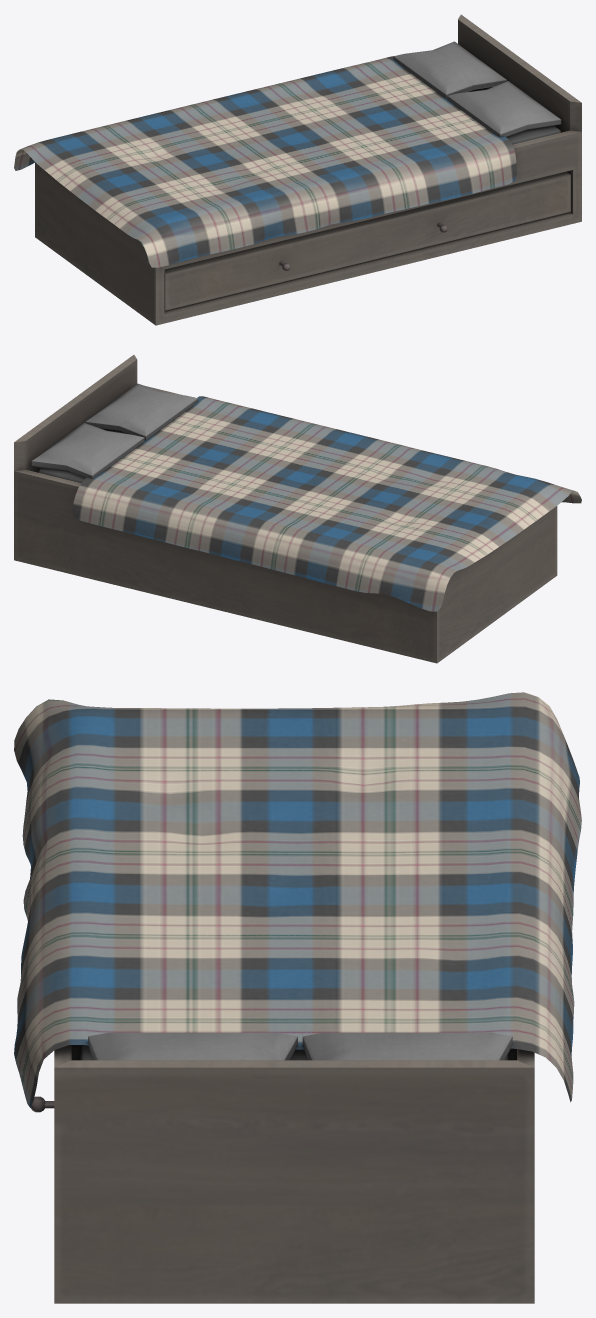
The model's file is model-6.7cba46c1.glb.
3 views of the same model, one above another, from view 1: azimuth 30°, elevation 25°; view 2: azimuth 150°, elevation 25°; view 3: azimuth 270°, elevation 25° (orthographic). The views are drawn at different scales.
Parts seen in each view (by area): view 1: Object_2; view 2: Object_2; view 3: Object_2.
Part boxes in pixels (<box>): Object_2: <box>14,14,581,325</box>; Object_2: <box>14,355,581,663</box>; Object_2: <box>14,692,581,1303</box>.
Size of the model in its own units: 264 by 67.68 by 148.
1 material, 1 textured.
